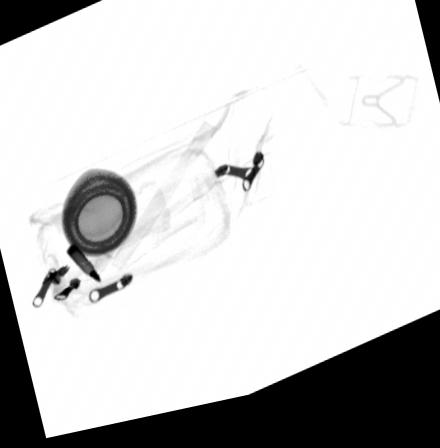Bullet: (64, 243, 102, 288)
